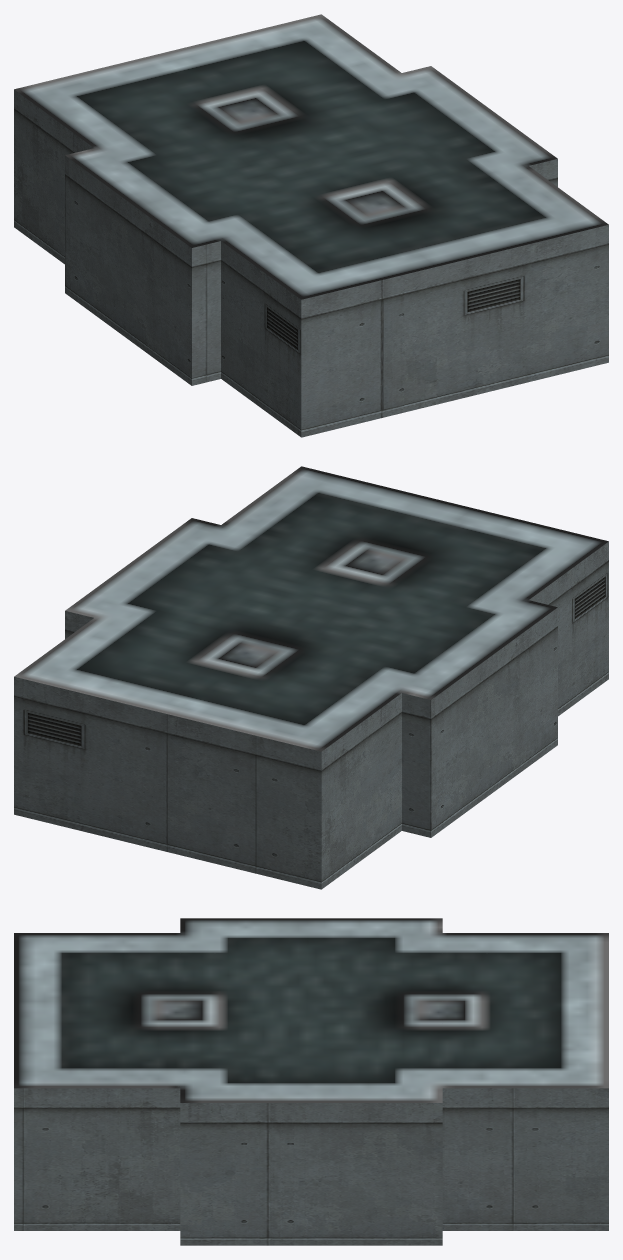
Rendered from medium_roof00.glb.
The picture shows the model from 3 angles, top to bottom: view 1: azimuth 30°, elevation 25°; view 2: azimuth 150°, elevation 25°; view 3: azimuth 270°, elevation 25°; orthographic projection. The views are drawn at different scales.
Visible parts, largest first — view 1: buildings/saxarba/medium/medium_roof00; view 2: buildings/saxarba/medium/medium_roof00; view 3: buildings/saxarba/medium/medium_roof00.
Part boxes in pixels (bbox=[...]): buildings/saxarba/medium/medium_roof00: bbox=[14, 14, 608, 437]; buildings/saxarba/medium/medium_roof00: bbox=[14, 466, 608, 889]; buildings/saxarba/medium/medium_roof00: bbox=[14, 918, 608, 1245].
Size of the model in its own units: 50 by 18 by 68.
